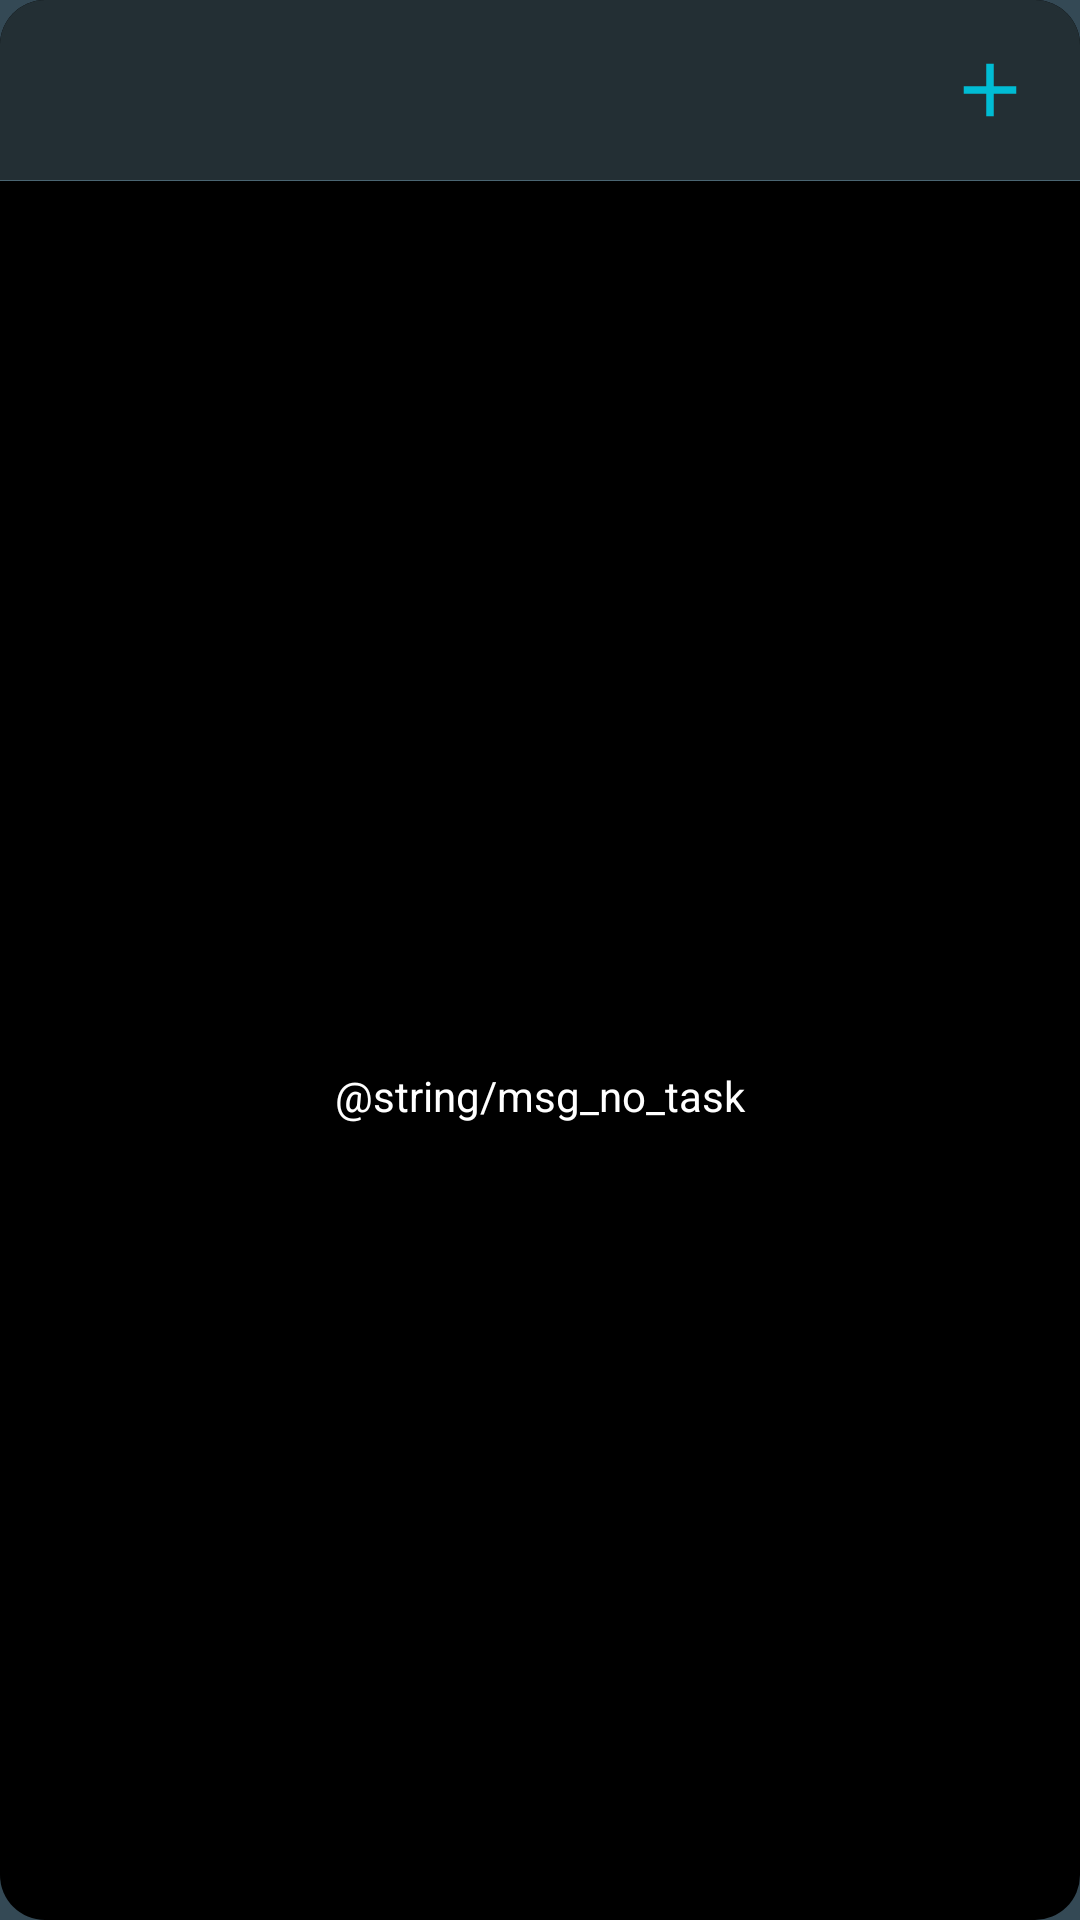

Named icons in this screenshot (1080×1920) and their centers, [x,y]:
add: [990,90]
